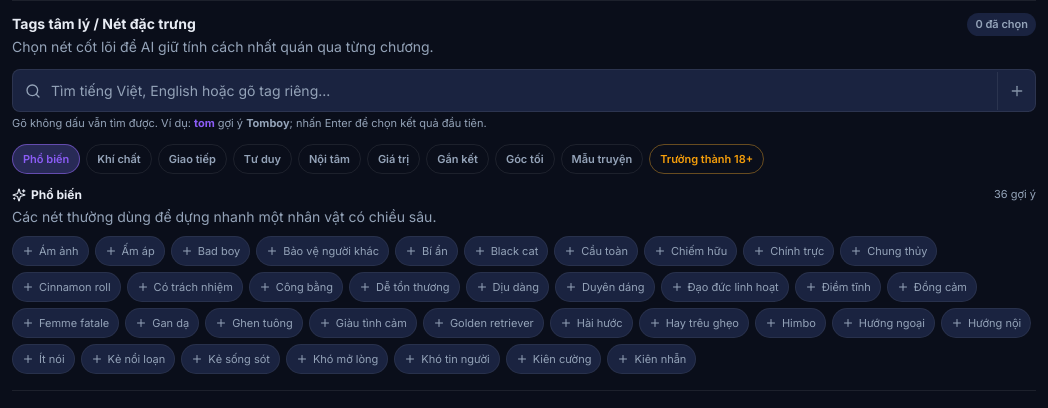
Test: phase10 CharacterTraitPicker › keeps adult suggestions unlocked without checking the age field
Click the button "Trưởng thành 18+" at (707, 159), box [649,144,764,174]
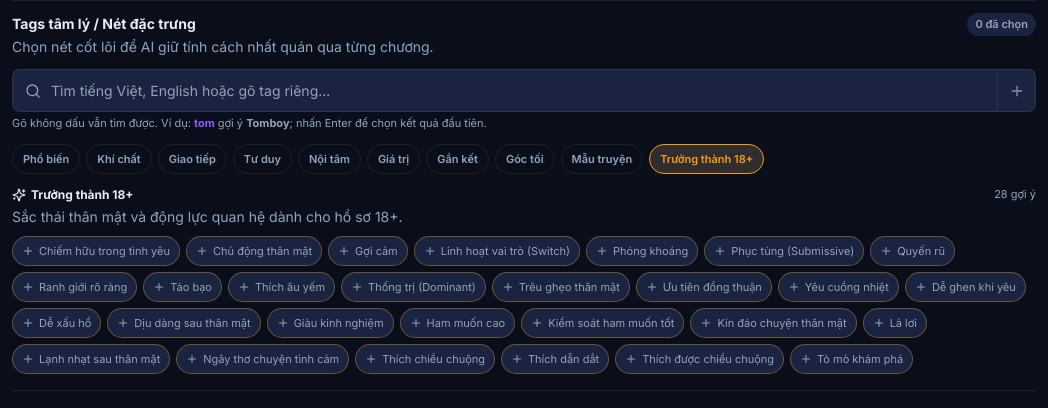
Now the text "Thống trị (Dominant)" is shown, box [341,272,486,302]
